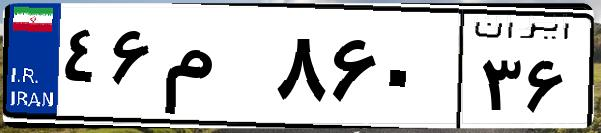0: (385, 28, 445, 110)
3: (475, 38, 525, 113)
4: (57, 26, 110, 100)
6: (330, 28, 385, 110), (525, 38, 570, 115), (110, 28, 158, 98)
8: (270, 28, 330, 110)
م: (158, 20, 270, 120)
